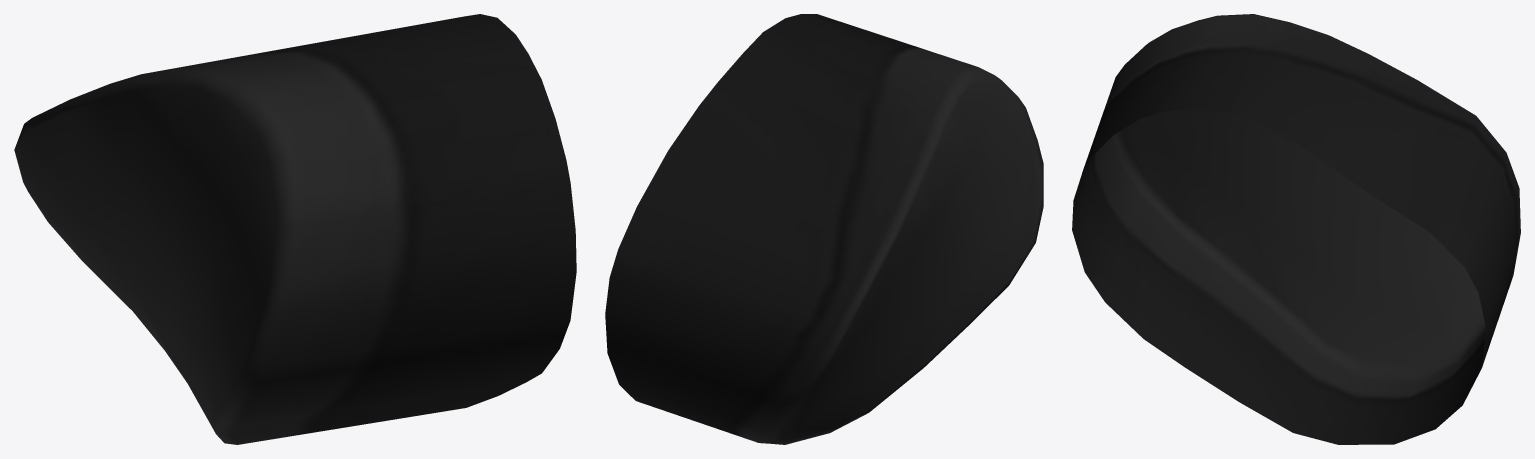
Rendered from RGrip.obj.
3 views of the same model, side by side, from view 1: azimuth 30°, elevation 25°; view 2: azimuth 150°, elevation 25°; view 3: azimuth 270°, elevation 25° (orthographic). The views are drawn at different scales.
Parts seen in each view (by area): view 1: RGrip; view 2: RGrip; view 3: RGrip.
Boxes of the visible parts, x1,y1,x2,y2 form: RGrip: [14, 14, 576, 444]; RGrip: [605, 14, 1043, 444]; RGrip: [1072, 14, 1520, 444].
Size of the model in its own units: 0.016 by 0.0189 by 0.0234.
1 material, 1 textured.
